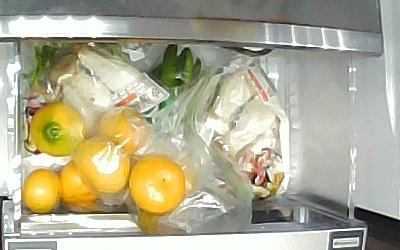tangerine: (29, 102, 88, 158), (131, 155, 186, 215), (60, 162, 98, 212), (24, 168, 62, 215)
tangerine_vinyl: (79, 139, 130, 196), (101, 108, 146, 154), (136, 209, 174, 234)
